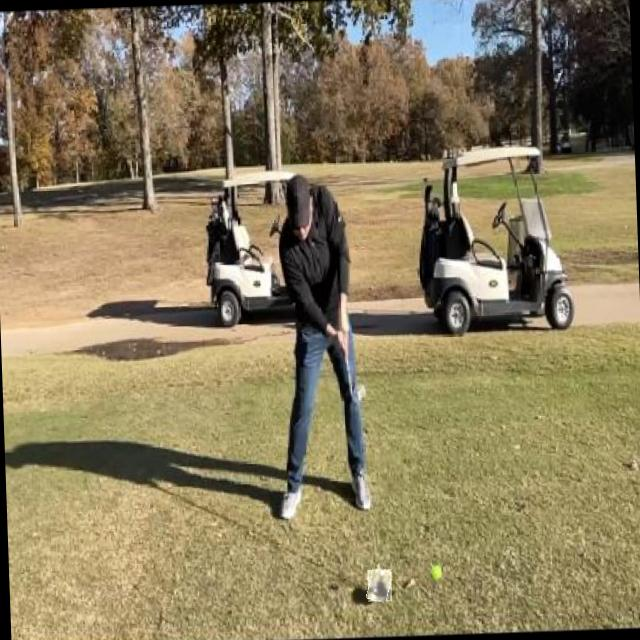club head: (367, 568, 392, 602)
